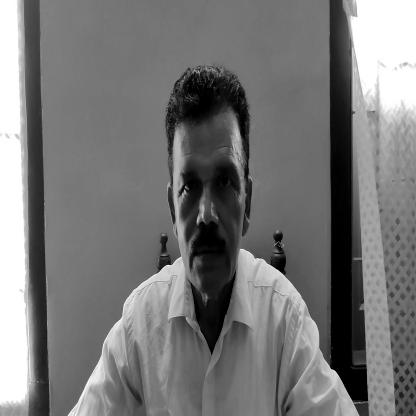Normal: (167, 72, 252, 298)
